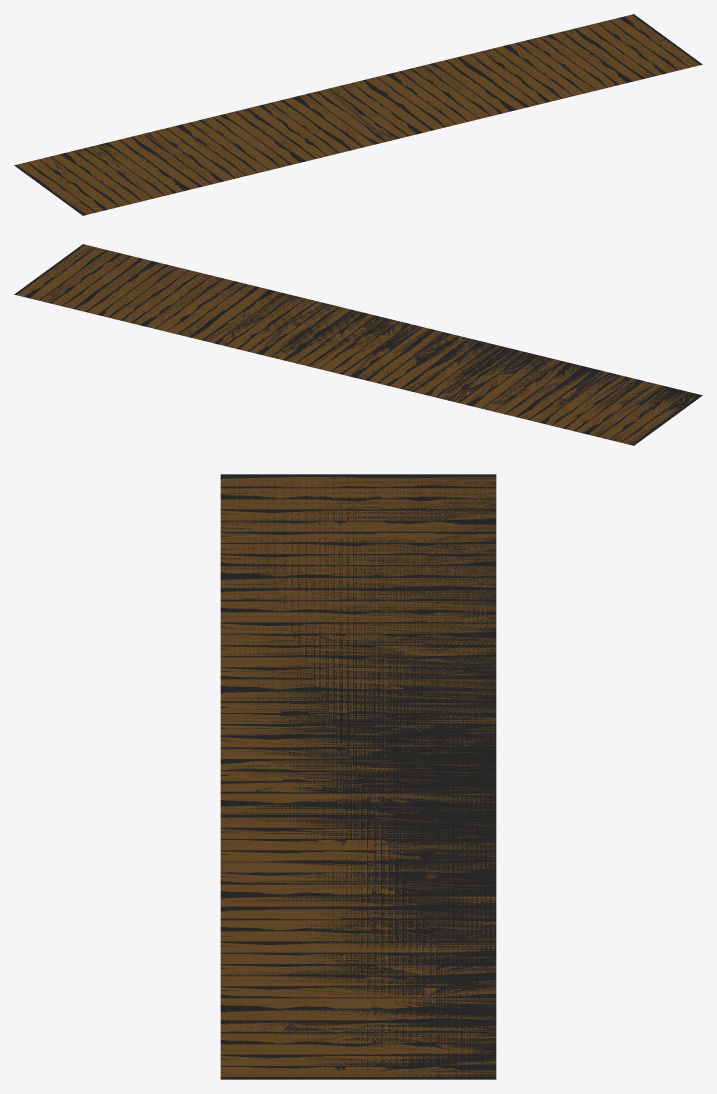
The model's file is tablasMadera01.fbx.
3 renders of one model, top to bottom at view 1: azimuth 30°, elevation 25°; view 2: azimuth 150°, elevation 25°; view 3: azimuth 270°, elevation 25°, orthographic. The views are drawn at different scales.
Parts seen in each view (by area): view 1: Plane.001; view 2: Plane.001; view 3: Plane.001.
Boxes of the visible parts, left/top/right/bottom form: Plane.001: left=14, top=14, right=702, bottom=215; Plane.001: left=14, top=244, right=702, bottom=445; Plane.001: left=220, top=474, right=496, bottom=1079.
Size of the model in its own units: 31143 by 0.000453 by 6001.
Materials: 1 (1 with a texture image).
